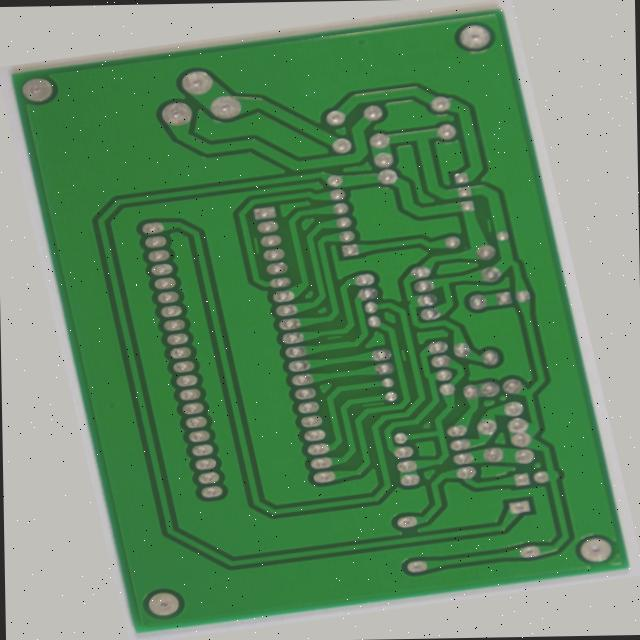spurious_copper: (345, 408, 385, 424), (318, 333, 350, 346), (540, 227, 559, 248), (256, 219, 273, 240), (406, 358, 421, 377)
